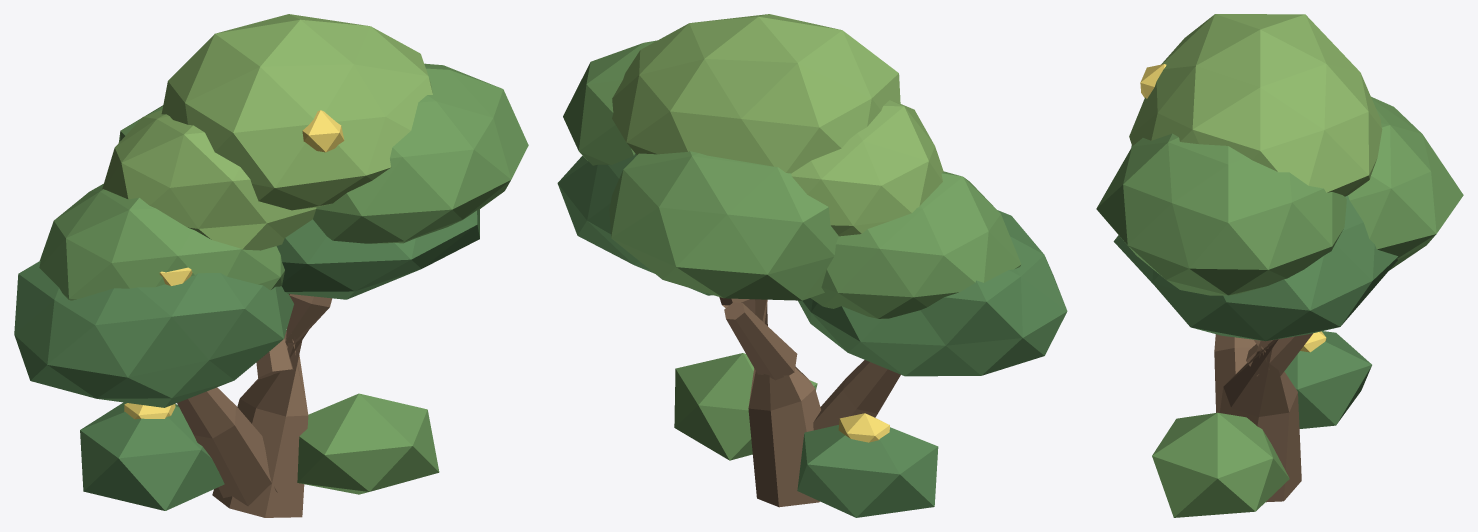
Rendered from OBS_N1_ArbolBajoCosteno.fbx.
3 views of the same model, side by side, from view 1: azimuth 30°, elevation 25°; view 2: azimuth 150°, elevation 25°; view 3: azimuth 270°, elevation 25° (orthographic).
Parts seen in each view (by area): view 1: OBS_N1_ArbolBajoCosteno; view 2: OBS_N1_ArbolBajoCosteno; view 3: OBS_N1_ArbolBajoCosteno.
Part boxes in pixels (left/top/right/bottom): OBS_N1_ArbolBajoCosteno: left=14, top=14, right=528, bottom=517; OBS_N1_ArbolBajoCosteno: left=557, top=14, right=1067, bottom=517; OBS_N1_ArbolBajoCosteno: left=1096, top=14, right=1463, bottom=517.
Bounding box in the file's own units: 5.16 × 4.94 × 3.45.
